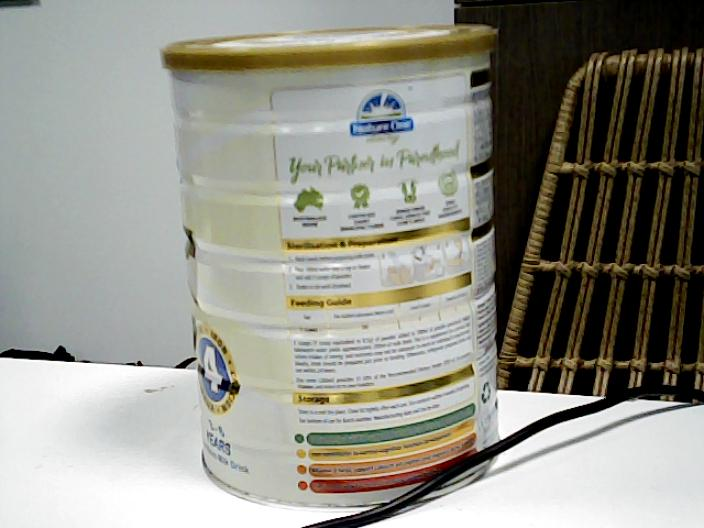Babymilk-powder_500-599g_NonHalal_NonHealthy: (162, 25, 503, 512)
